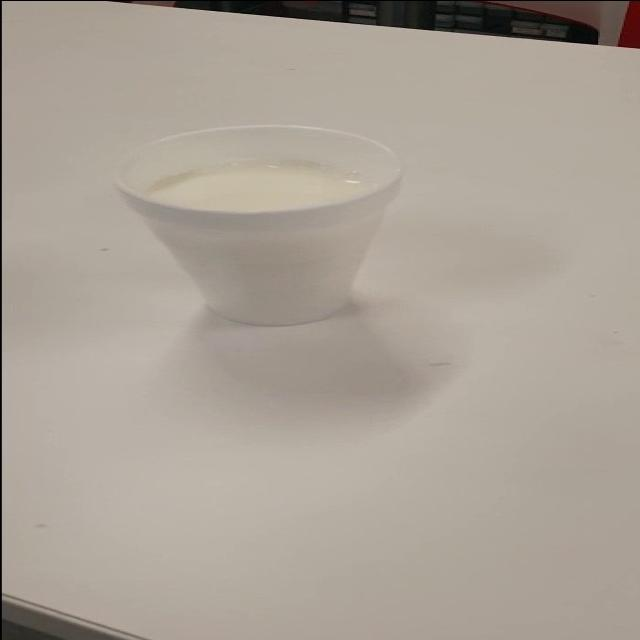Milk: (102, 107, 521, 335)
